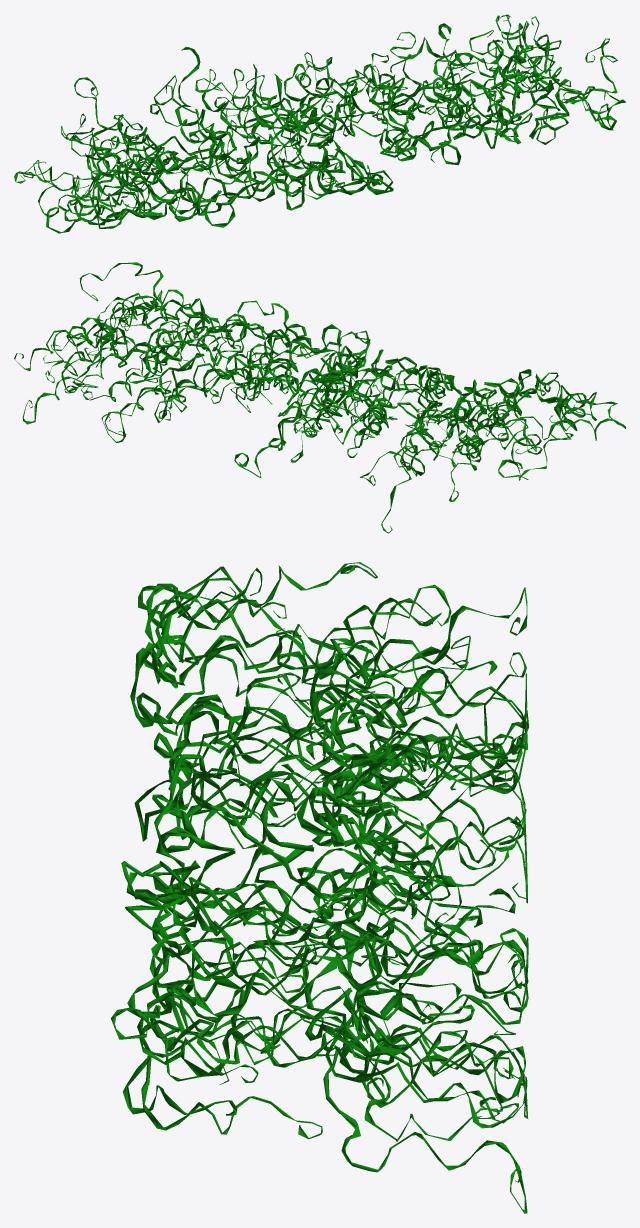
File: wire_006135006.obj
3 views of the same model, one above another, from view 1: azimuth 30°, elevation 25°; view 2: azimuth 150°, elevation 25°; view 3: azimuth 270°, elevation 25° (orthographic). The views are drawn at different scales.
Parts seen in each view (by area): view 1: wire_006135006; view 2: wire_006135006; view 3: wire_006135006.
Boxes of the visible parts, x1=… form: wire_006135006: x1=14, y1=14, x2=625, y2=233; wire_006135006: x1=14, y1=262, x2=625, y2=533; wire_006135006: x1=111, y1=562, x2=528, y2=1213.
Bounding box in the file's own units: 6.34 × 1.59 × 2.16.
